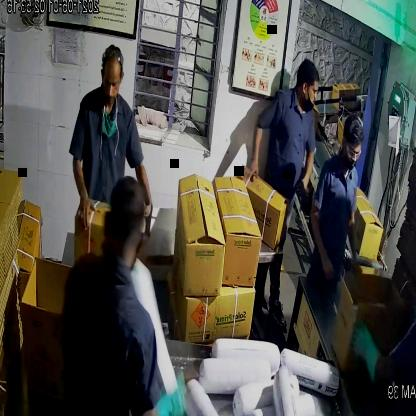goggles: (342, 139, 363, 163)
no_goggles: (98, 69, 126, 95)
